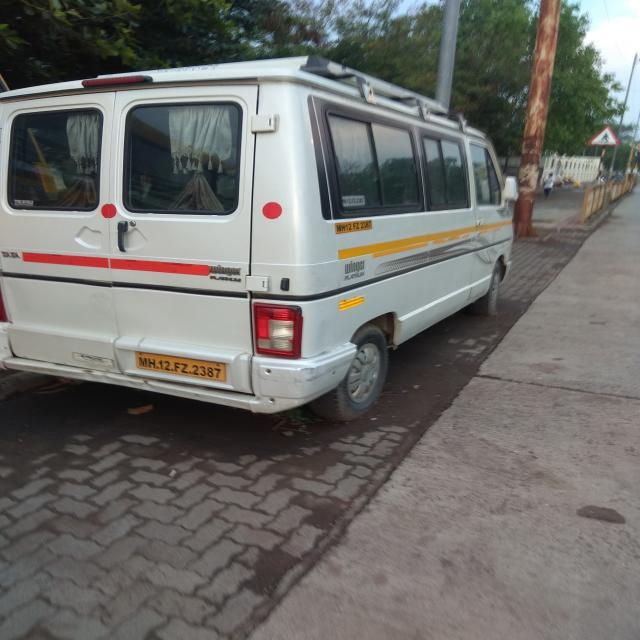Travller: (2, 49, 547, 440)
